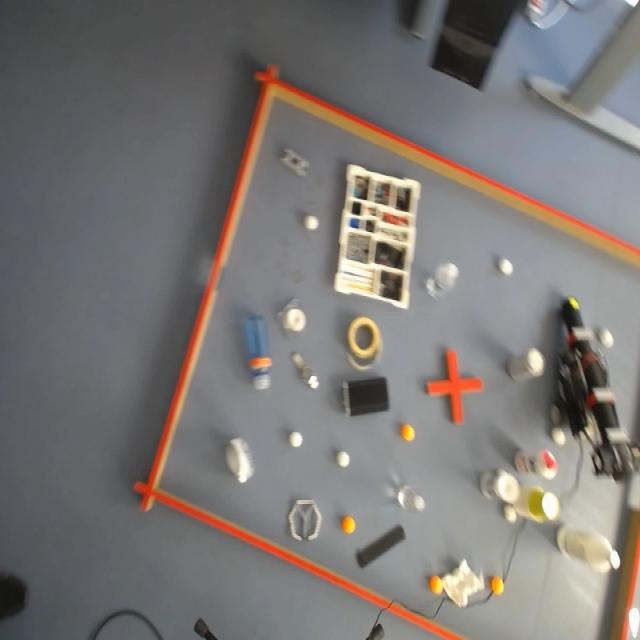orange: (399, 422, 416, 442), (340, 515, 356, 534), (429, 575, 442, 594), (490, 575, 502, 594)
robot: (552, 297, 640, 481)
white: (287, 429, 305, 451), (496, 257, 514, 278), (334, 450, 352, 470), (302, 214, 320, 233), (598, 329, 616, 347), (554, 424, 566, 445), (505, 504, 516, 524)
